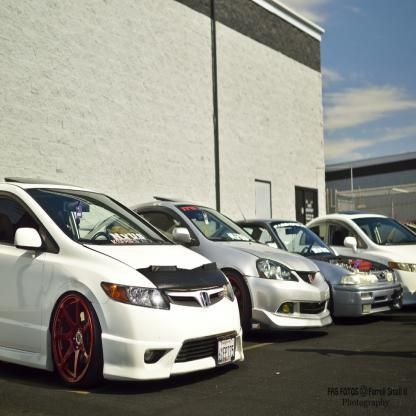car: (80, 194, 332, 339), (208, 196, 404, 318), (285, 210, 416, 306), (386, 220, 416, 243)
